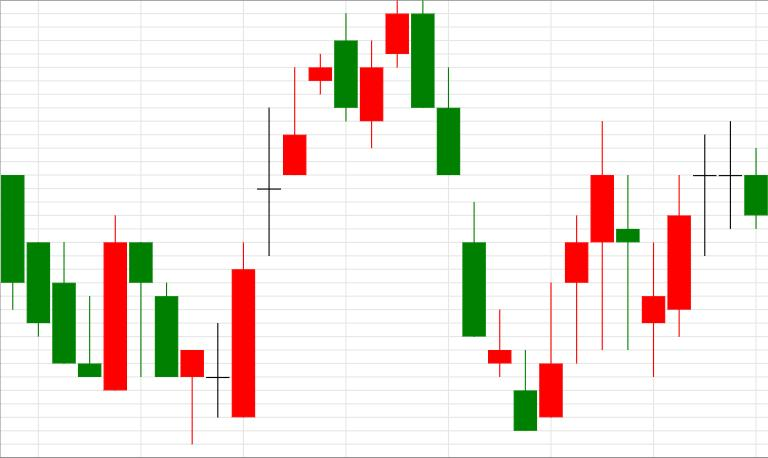bearish_engulfing_fall: (181, 0, 435, 445), (181, 12, 357, 445)
